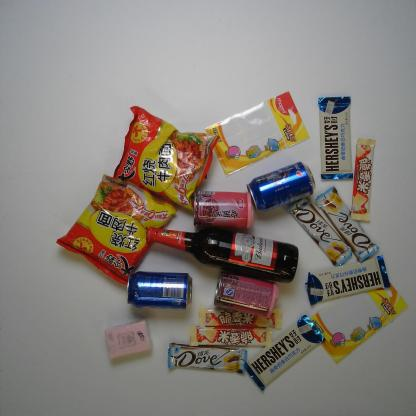Alcohol: (144, 226, 300, 285)
Canned Food: (213, 270, 280, 318), (193, 190, 255, 230)
Chocolate: (244, 314, 326, 392), (314, 185, 381, 264), (283, 196, 354, 267), (304, 255, 391, 305), (318, 95, 353, 181), (166, 341, 248, 376), (349, 136, 376, 223), (189, 324, 273, 348), (198, 306, 283, 329)
Drink: (246, 160, 317, 213), (126, 269, 194, 312)
Instant Noodles: (54, 172, 181, 288), (112, 103, 220, 212)
Stationery: (204, 89, 312, 178), (307, 281, 409, 366)
Tissue: (104, 316, 158, 364)
